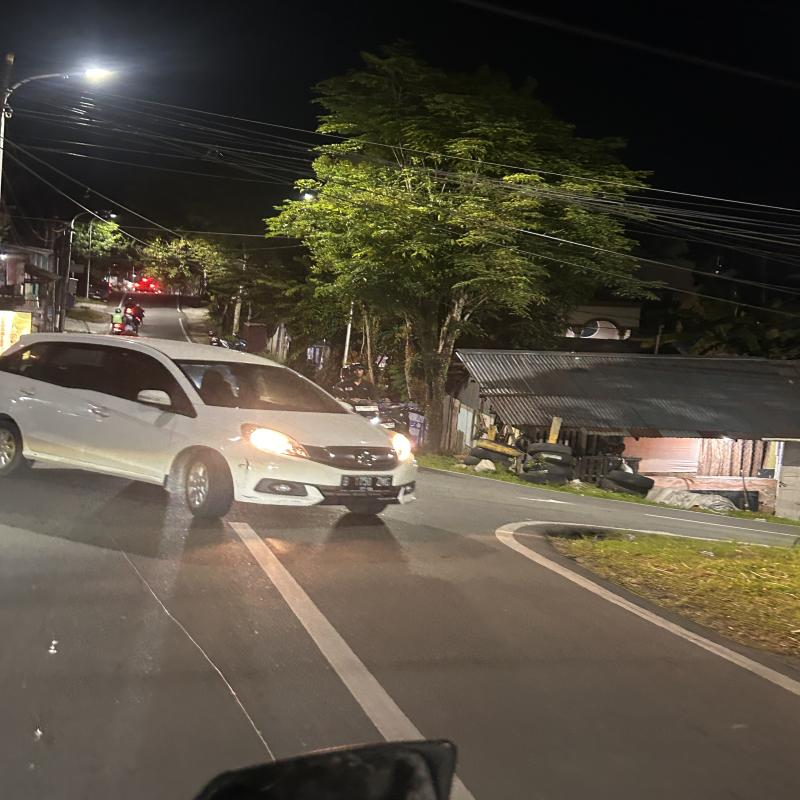license plate on a car: (340, 473, 394, 492)
